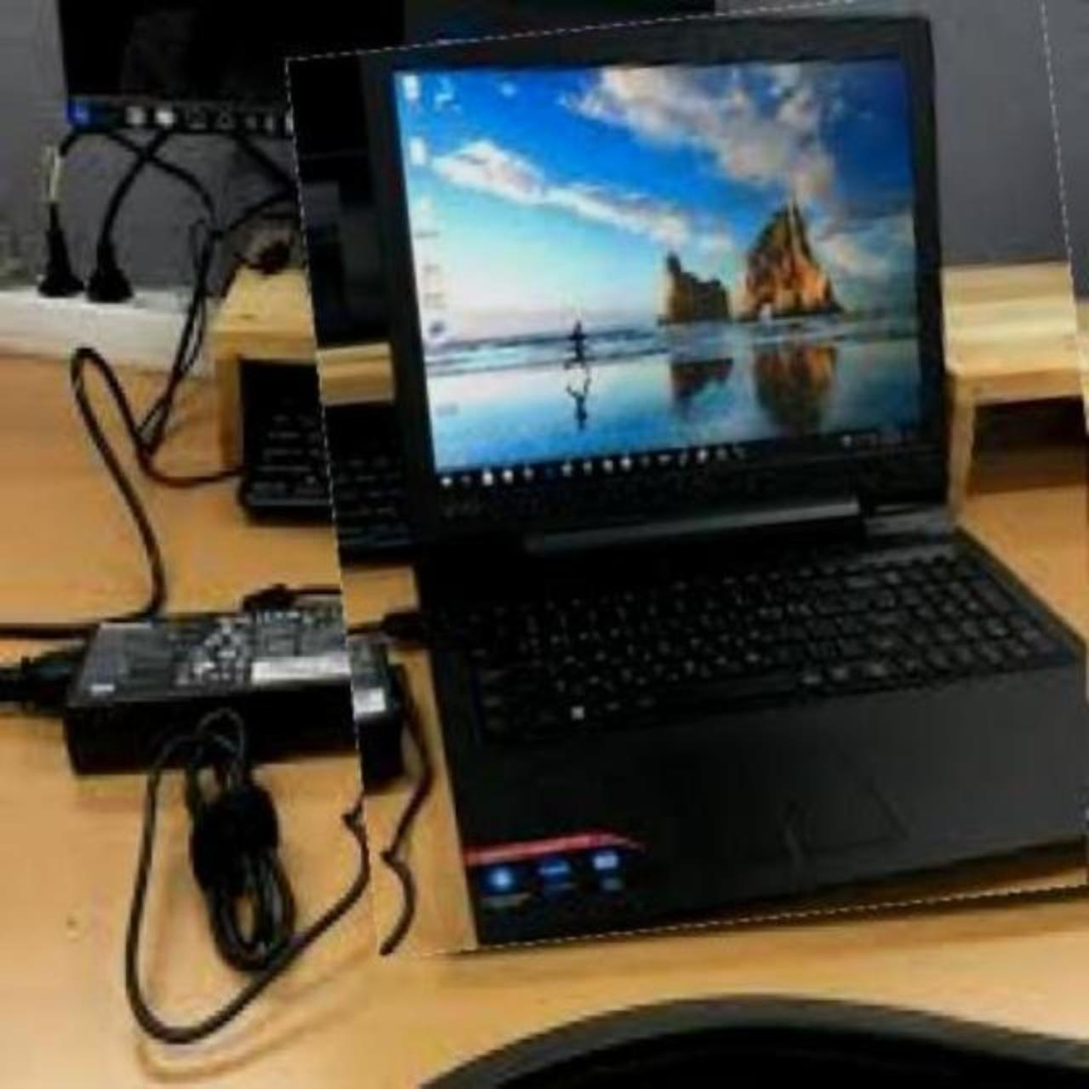laptop: (310, 0, 1089, 936)
